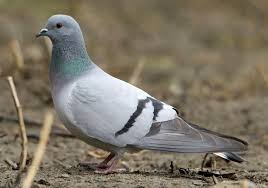голубь: (30, 15, 253, 172)
